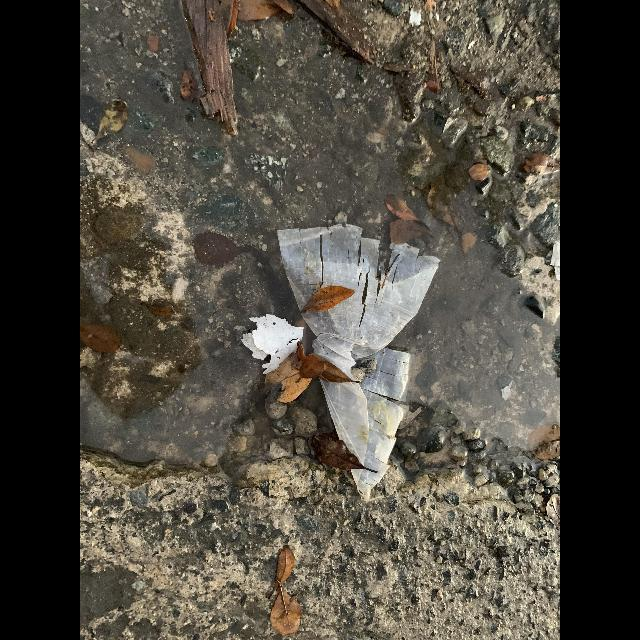Plastic: (278, 224, 440, 500), (241, 315, 303, 375)
